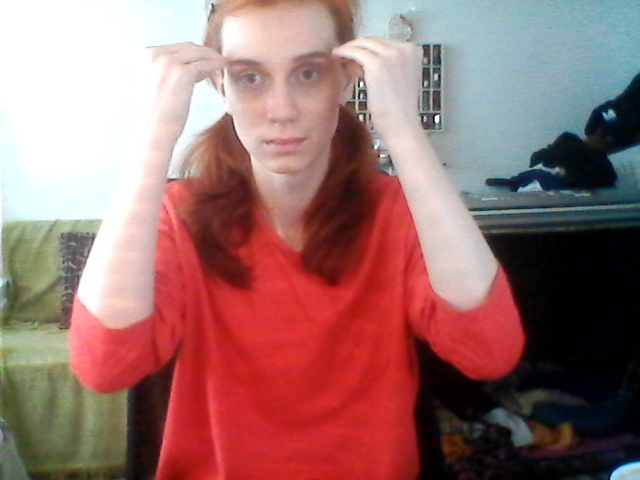ucit: (135, 27, 451, 91)
